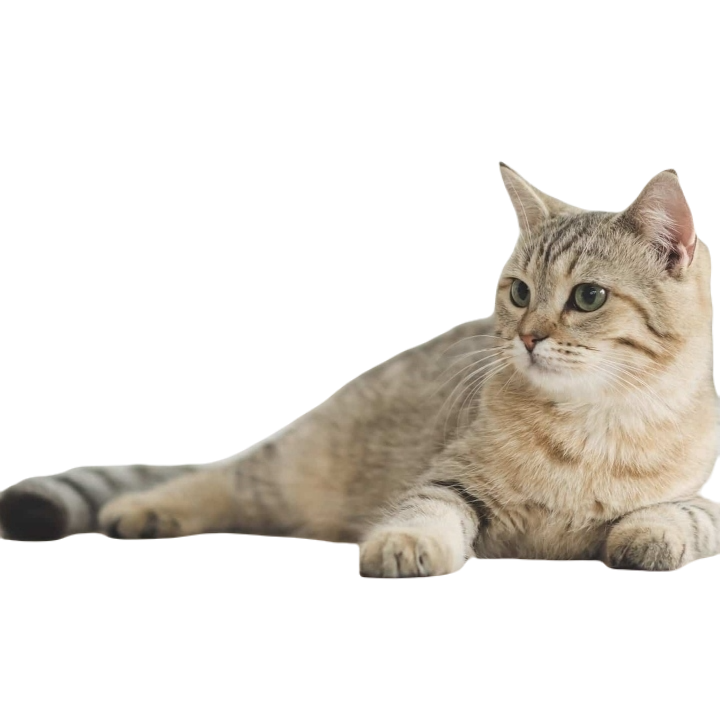Cat: (0, 143, 719, 613)
